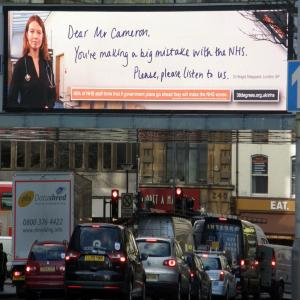Vehicle-registration-plate: (86, 256, 105, 262), (147, 276, 158, 280), (41, 268, 54, 271)
